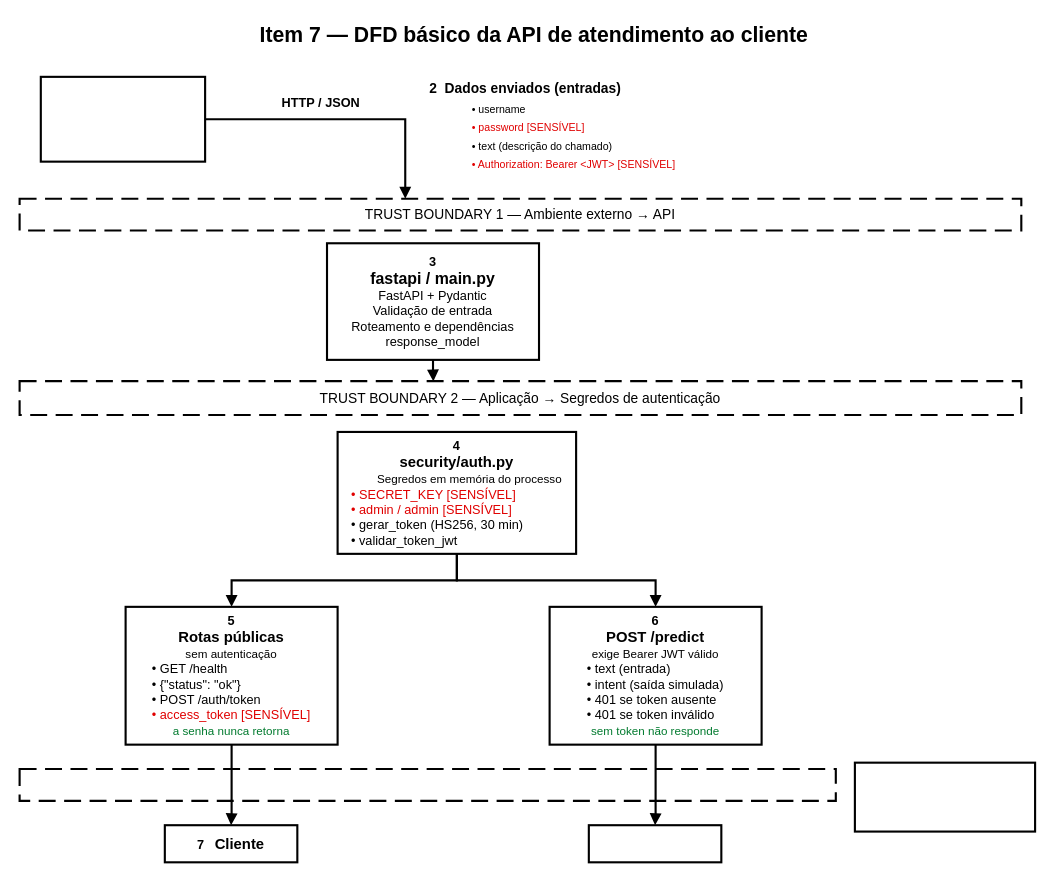
Image size: 1054x881. Some labels were removed from this diagram. Here are the shapes that lost their labels. From the top down, the box of each, then its label:
(39, 75, 206, 162): 1 Usuário / Cliente Browser, curl ou Swagger UI
(18, 767, 836, 801): TRUST BOUNDARY 3 — Aplicação → Usuário
(853, 761, 1036, 832): Vermelho = dado sensível Linhas tracejadas = trust boundaries
(587, 824, 722, 863): 7 Navegador
